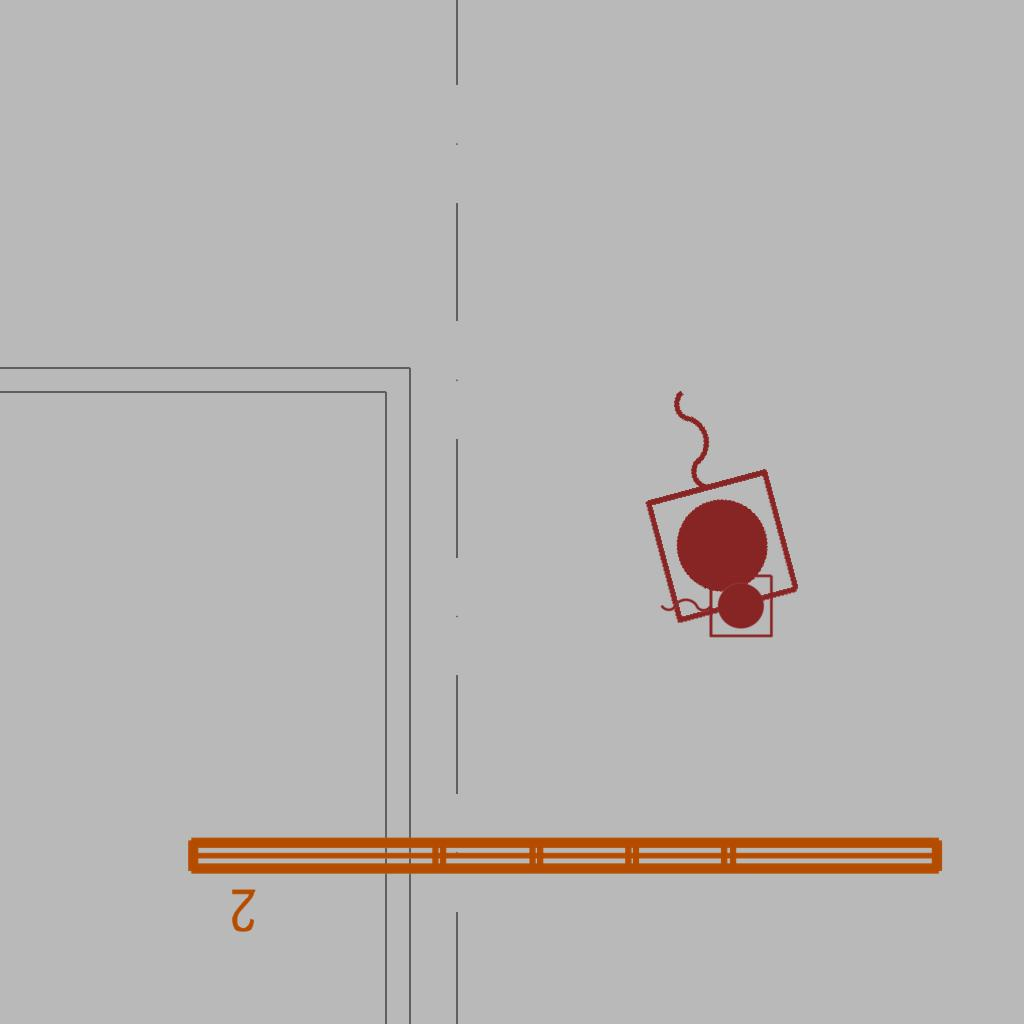Ambulanz_Pendelleuchte_LED: (179, 825, 953, 937)
Zugtaster: (609, 360, 813, 634), (655, 569, 777, 641)
